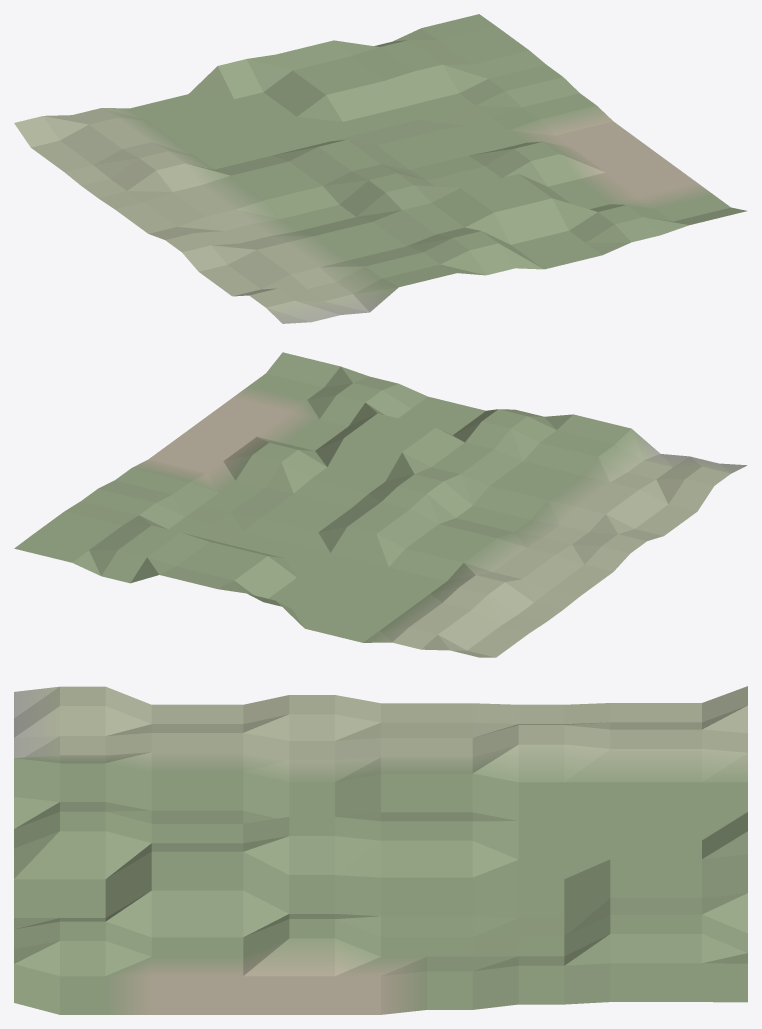
3 views of the same model, one above another, from view 1: azimuth 30°, elevation 25°; view 2: azimuth 150°, elevation 25°; view 3: azimuth 270°, elevation 25° (orthographic). The views are drawn at different scales.
Size of the model in its own units: 32 by 1.41 by 32.
